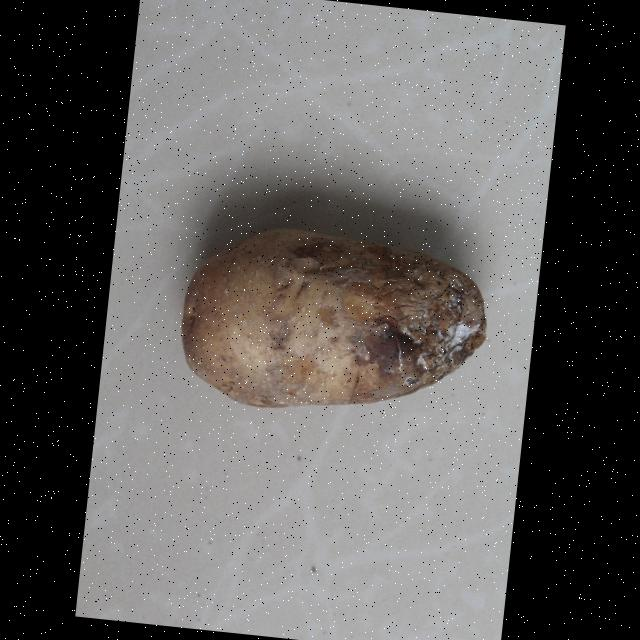Diseased-fungal potato: (138, 205, 474, 422)
